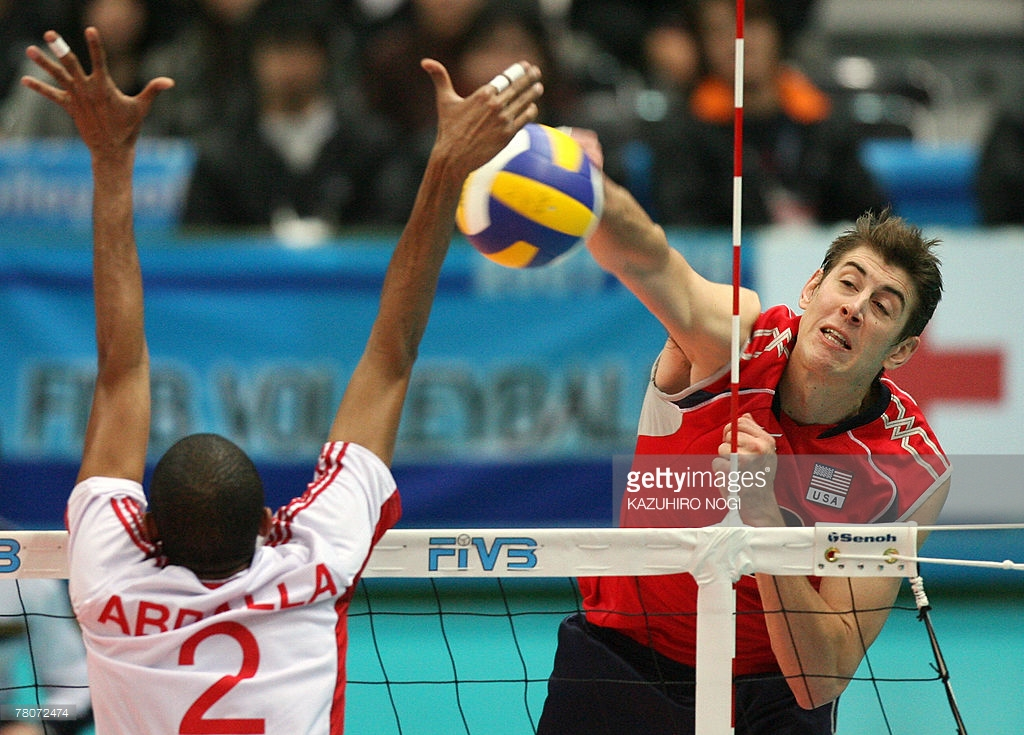volleyball: (453, 124, 604, 271)
